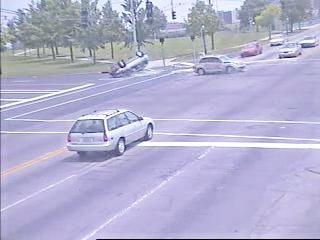Car: (63, 107, 158, 156), (194, 55, 246, 75), (111, 50, 148, 77), (277, 41, 302, 60), (239, 41, 264, 57), (301, 35, 318, 48), (270, 34, 285, 44)
Major Accident: (109, 49, 248, 79)
